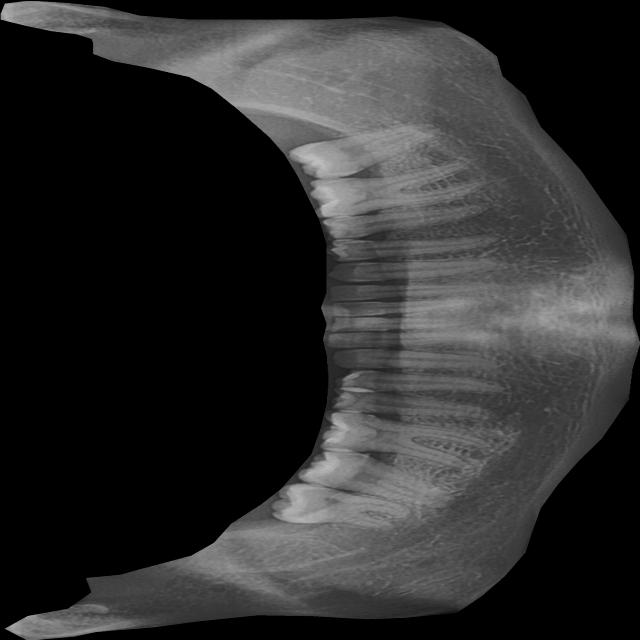mandibula: (1, 0, 640, 640)
